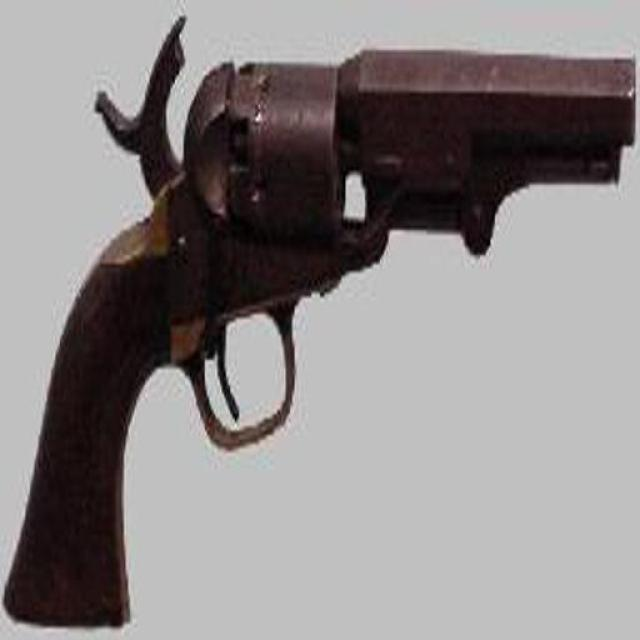pistol: (1, 20, 635, 619)
